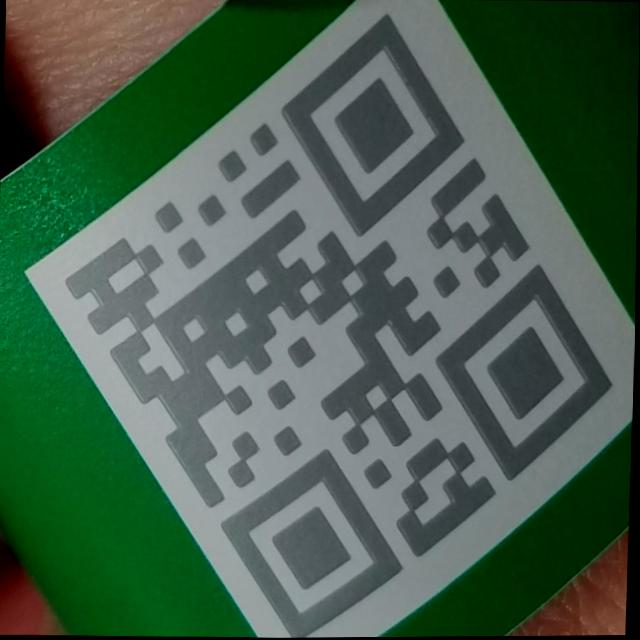QR_CODE: (54, 3, 624, 640)
